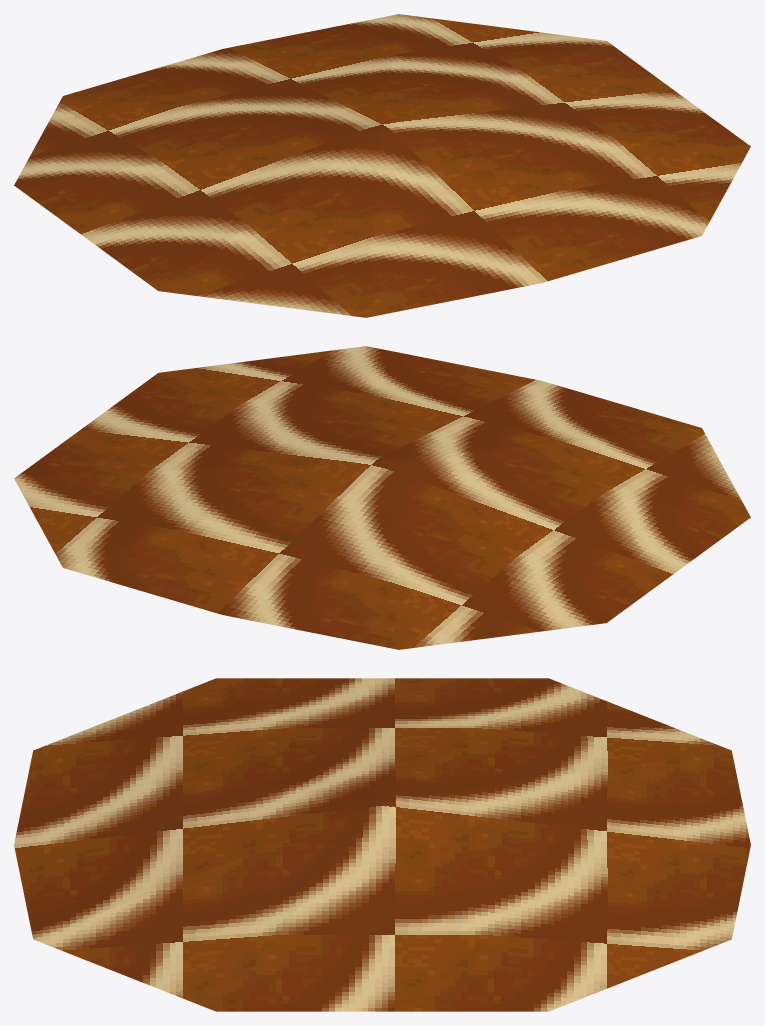
Rendered from 1387item2777r.gltf.
3 views of the same model, one above another, from view 1: azimuth 30°, elevation 25°; view 2: azimuth 150°, elevation 25°; view 3: azimuth 270°, elevation 25° (orthographic). The views are drawn at different scales.
Parts seen in each view (by area): view 1: 1387item2777r; view 2: 1387item2777r; view 3: 1387item2777r.
Part boxes in pixels (x1,y1,x2,y2): 1387item2777r: (14,14,750,317); 1387item2777r: (14,346,750,649); 1387item2777r: (14,678,750,1011).
Size of the model in its own units: 0.522 by 0.0312 by 0.4878.
Materials: 1 (1 with a texture image).
